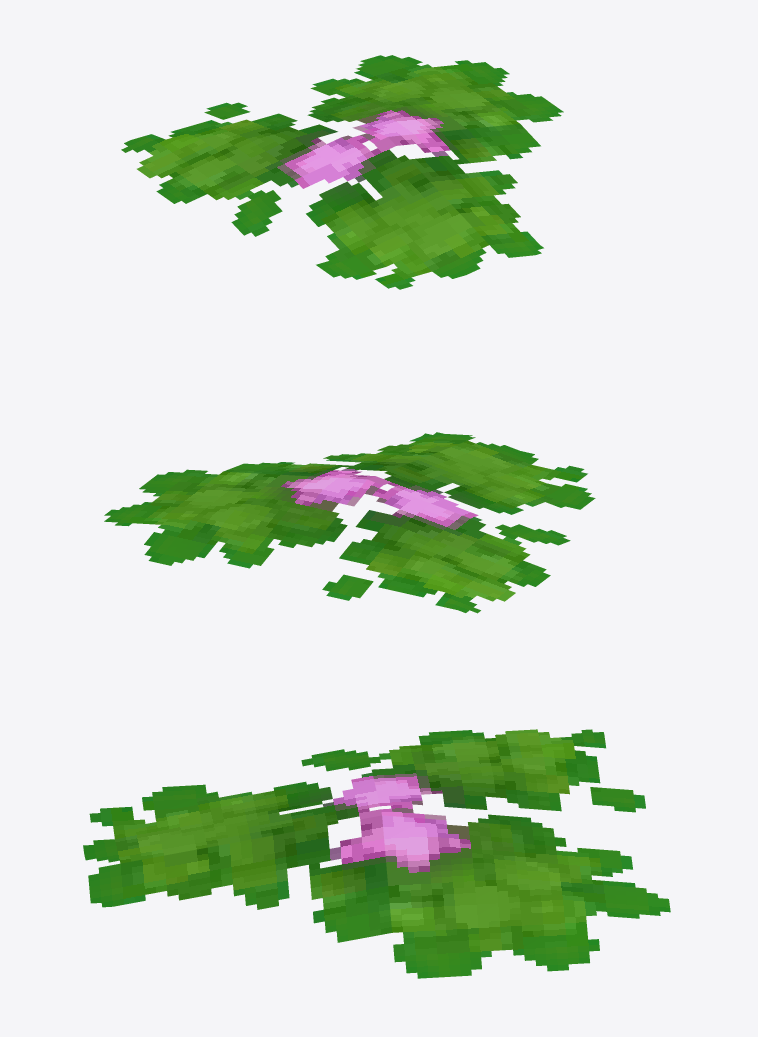
Rendered from foliage1.fbx.
3 views of the same model, one above another, from view 1: azimuth 30°, elevation 25°; view 2: azimuth 150°, elevation 25°; view 3: azimuth 270°, elevation 25° (orthographic). The views are drawn at different scales.
Parts seen in each view (by area): view 1: foliage1; view 2: foliage1; view 3: foliage1.
Part boxes in pixels (x1=…): foliage1: x1=121, y1=55, x2=563, y2=289; foliage1: x1=104, y1=432, x2=595, y2=613; foliage1: x1=83, y1=729, x2=670, y2=978.
Bounding box in the file's own units: 1.89 × 0.1882 × 1.89.
